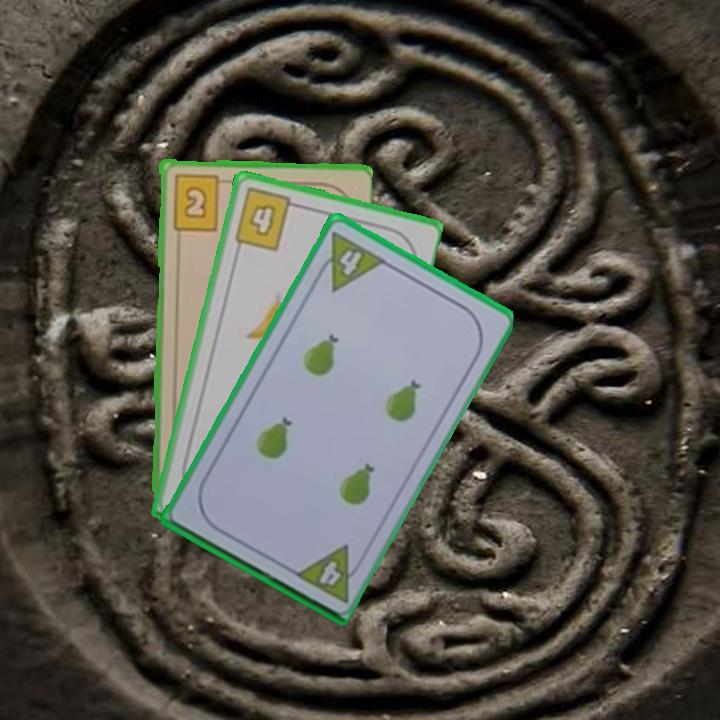2b: (168, 170, 231, 233)
4b: (230, 184, 303, 254)
4p: (310, 228, 388, 294), (290, 541, 368, 604)
